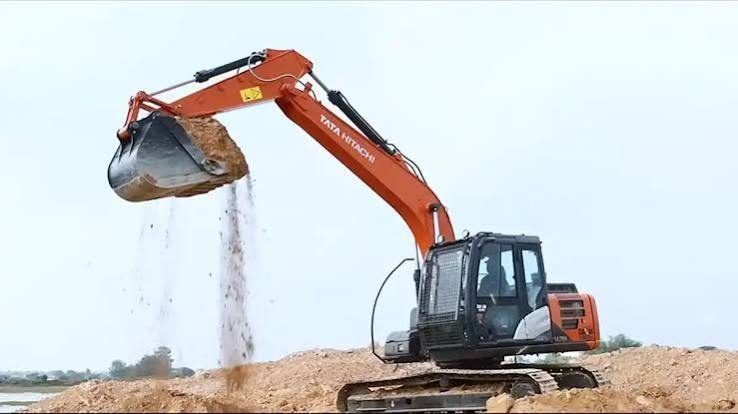excavator: (73, 37, 609, 404)
